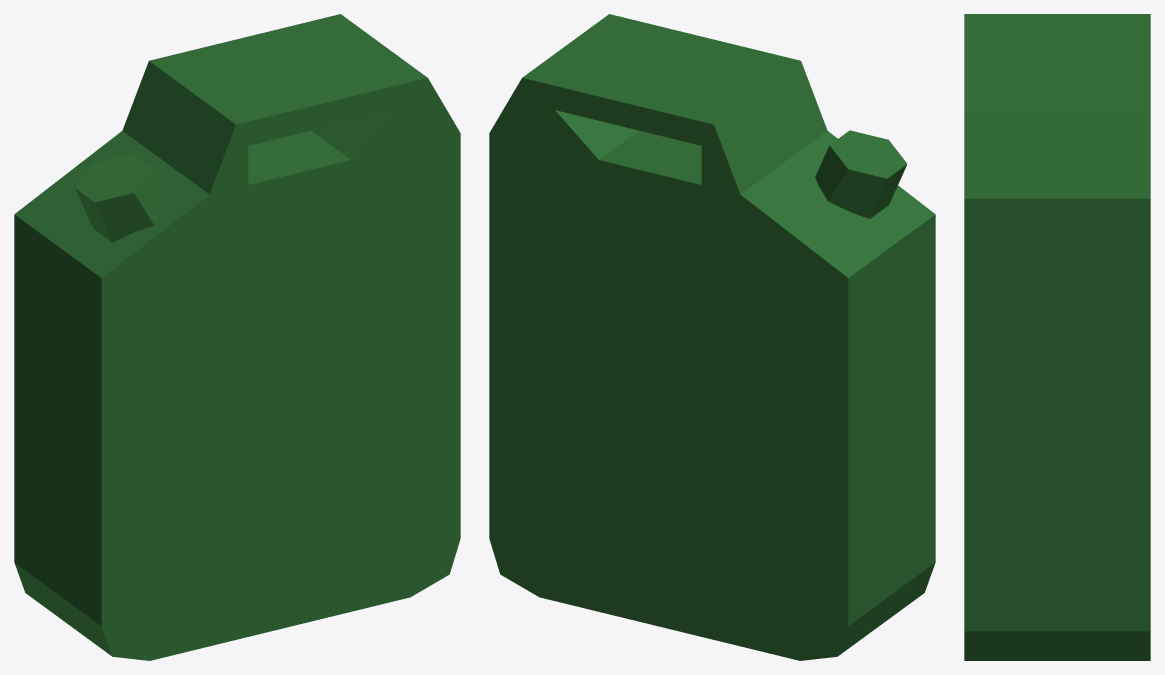
The model's file is survival_fuel-canister.fbx.
3 renders of one model, left to right at view 1: azimuth 30°, elevation 25°; view 2: azimuth 150°, elevation 25°; view 3: azimuth 270°, elevation 25°, orthographic. The views are drawn at different scales.
Visible parts, largest first — view 1: survival_fuel_canister; view 2: survival_fuel_canister; view 3: survival_fuel_canister.
Part boxes in pixels (<box>): survival_fuel_canister: <box>14,14,460,660</box>; survival_fuel_canister: <box>489,14,935,660</box>; survival_fuel_canister: <box>964,14,1150,660</box>.
Size of the model in its own units: 146 by 200 by 61.36.
